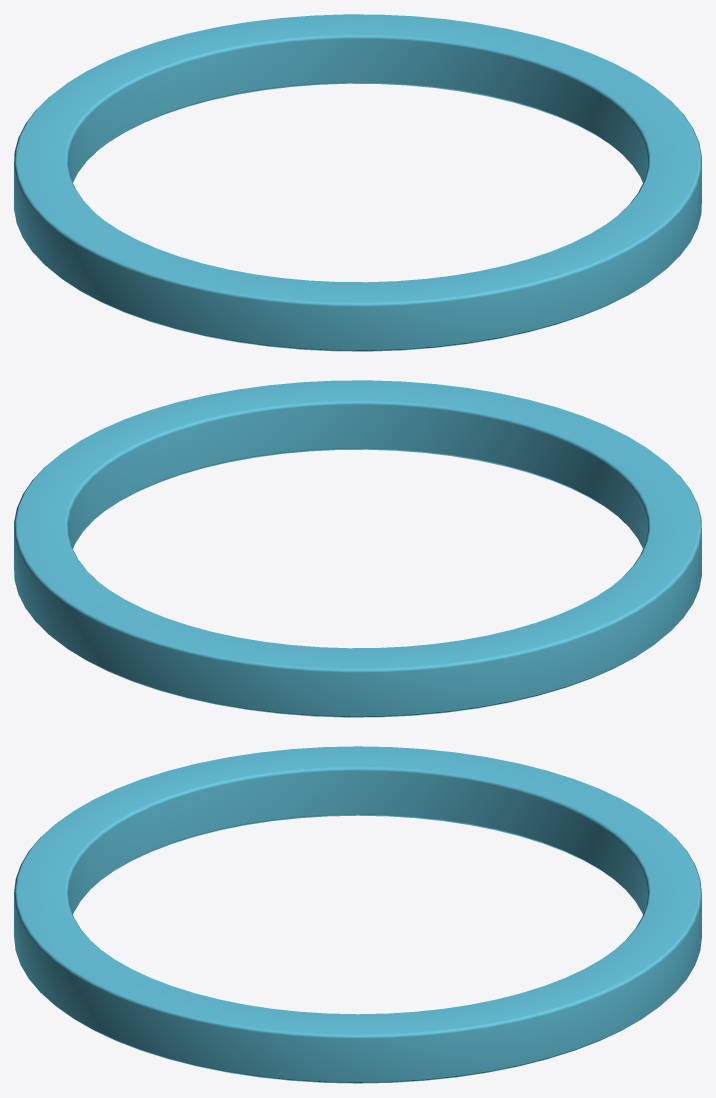
The picture shows the model from 3 angles, top to bottom: view 1: azimuth 30°, elevation 25°; view 2: azimuth 150°, elevation 25°; view 3: azimuth 270°, elevation 25°; orthographic projection.
Visible parts, largest first — view 1: seal_body; view 2: seal_body; view 3: seal_body.
Boxes of the visible parts, x1,y1,x2,y2 form: seal_body: (14, 14, 701, 351); seal_body: (14, 380, 701, 717); seal_body: (14, 746, 701, 1083).
Bounding box in the file's own units: 0.0603 × 0.00476 × 0.0603.
